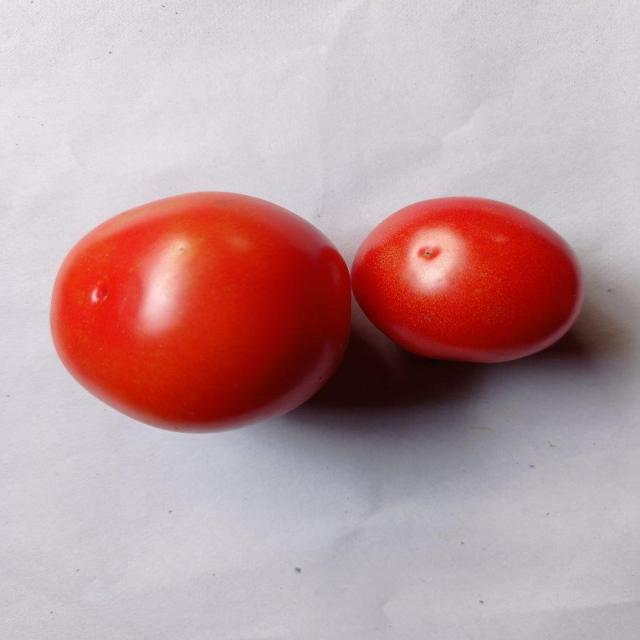Ripe: (42, 186, 357, 436), (363, 192, 591, 366)
